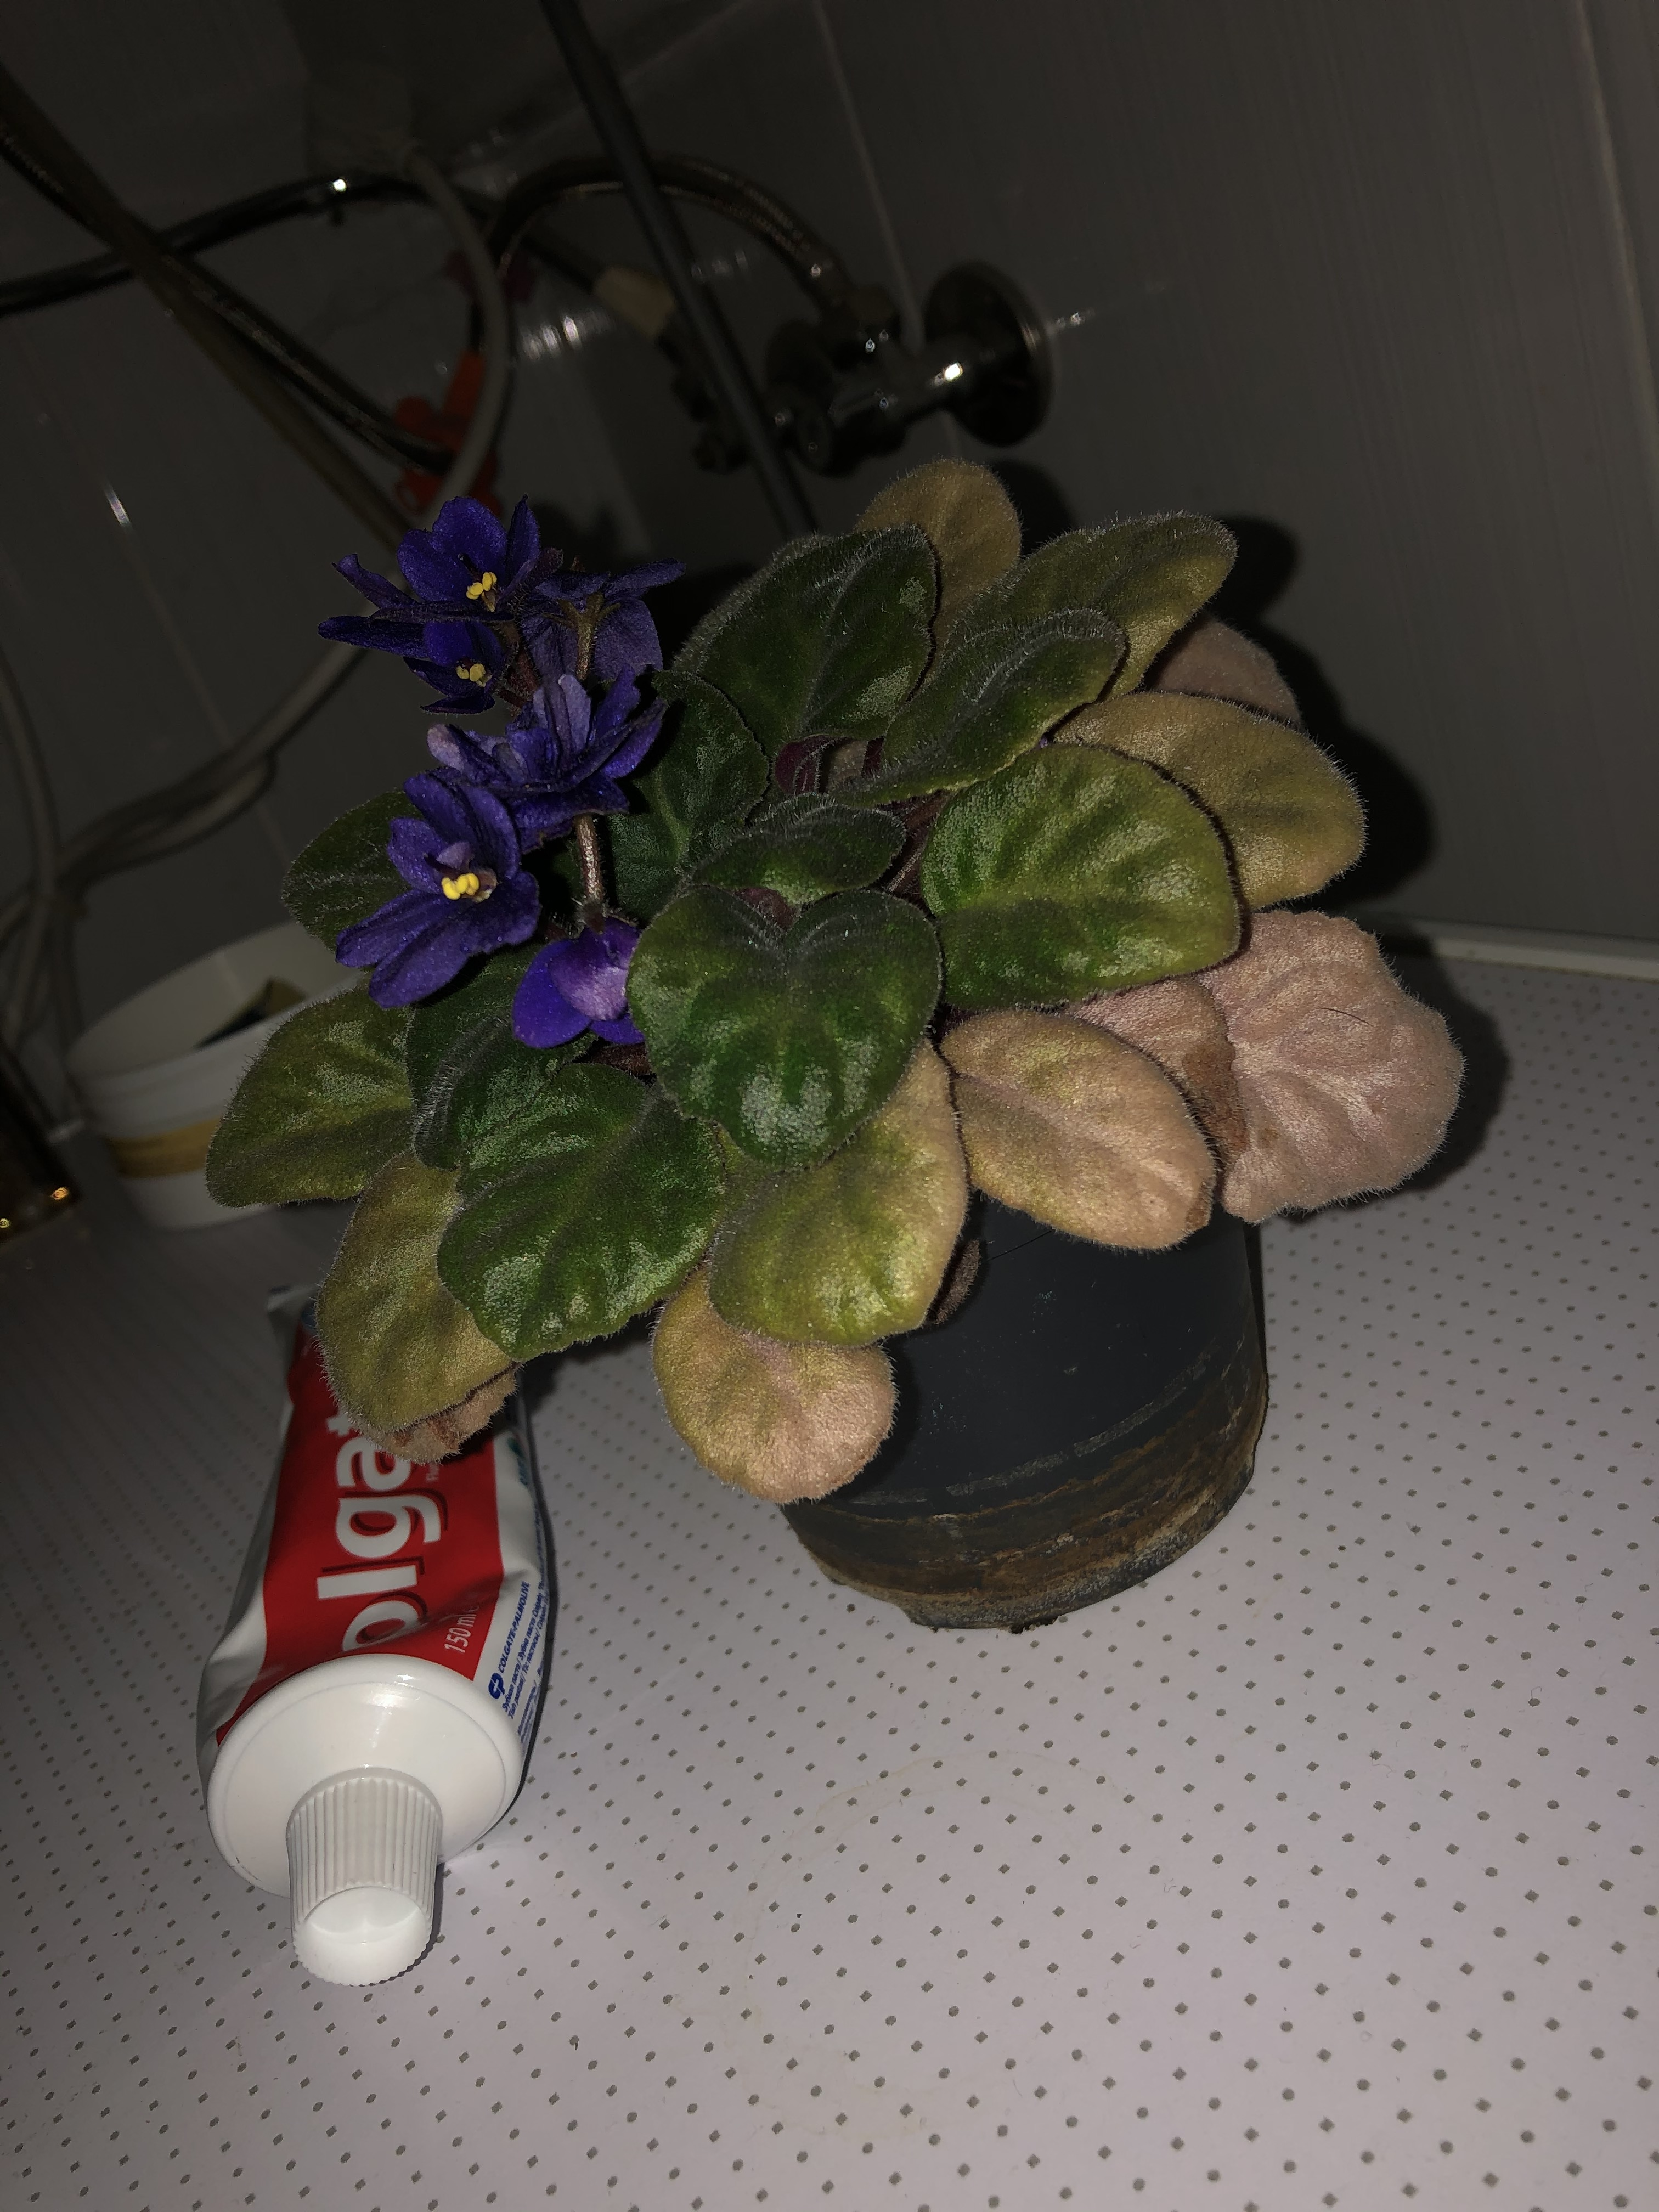ignore: (167, 430, 1518, 1512)
